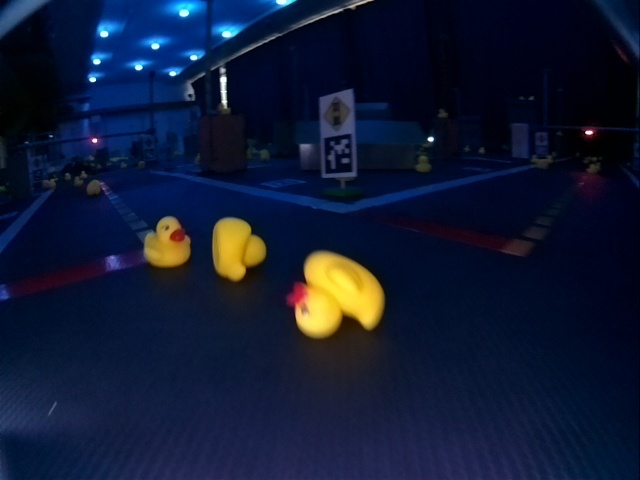Duckie: (289, 249, 385, 338), (212, 218, 267, 281), (145, 216, 190, 267), (416, 157, 431, 172), (87, 180, 100, 195), (261, 149, 270, 159), (74, 176, 83, 185), (439, 110, 447, 118), (589, 165, 596, 174), (48, 179, 53, 188)
QR code: (322, 134, 354, 175)
Signal sign: (323, 96, 352, 131)
